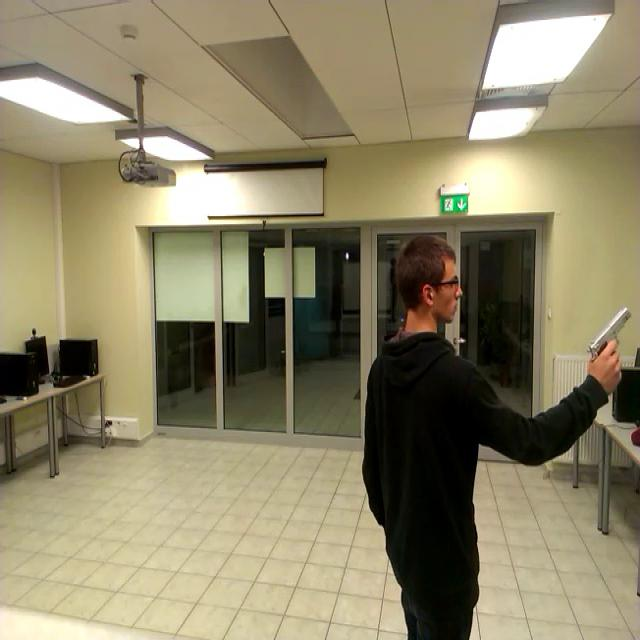handgun: (581, 297, 634, 388)
